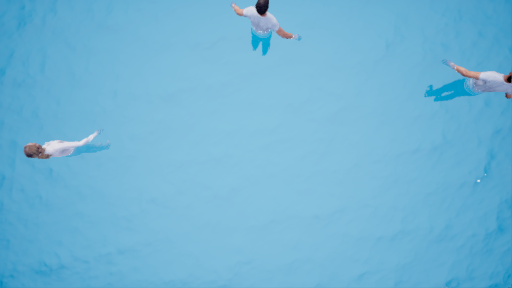person: (421, 56, 512, 110), (224, 2, 305, 62), (22, 132, 120, 161)
